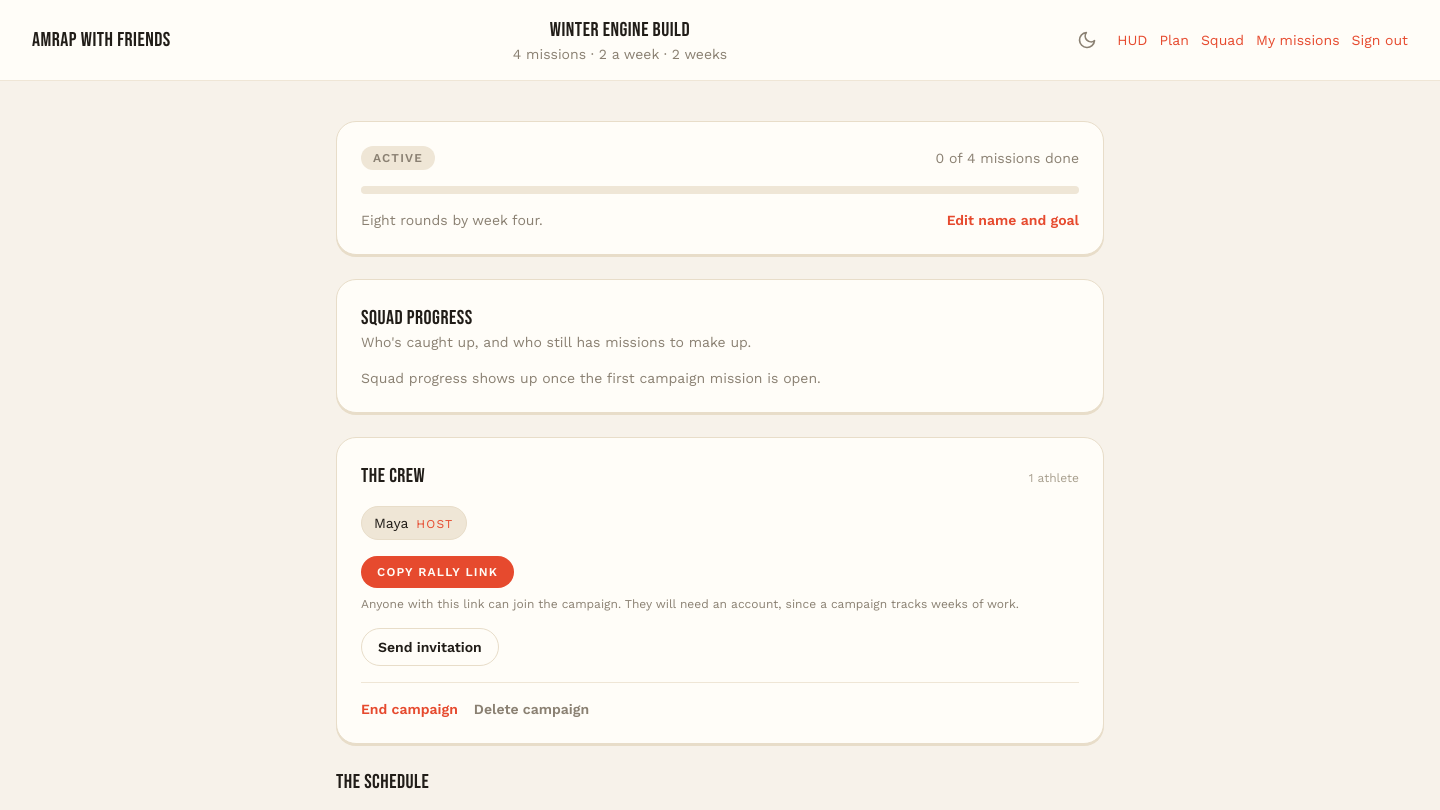
Test case: CampaignDetailPage › host controls › keeps the campaign readable when the server refuses
Click the button "Delete campaign" at (531, 709), box [474, 699, 589, 719]
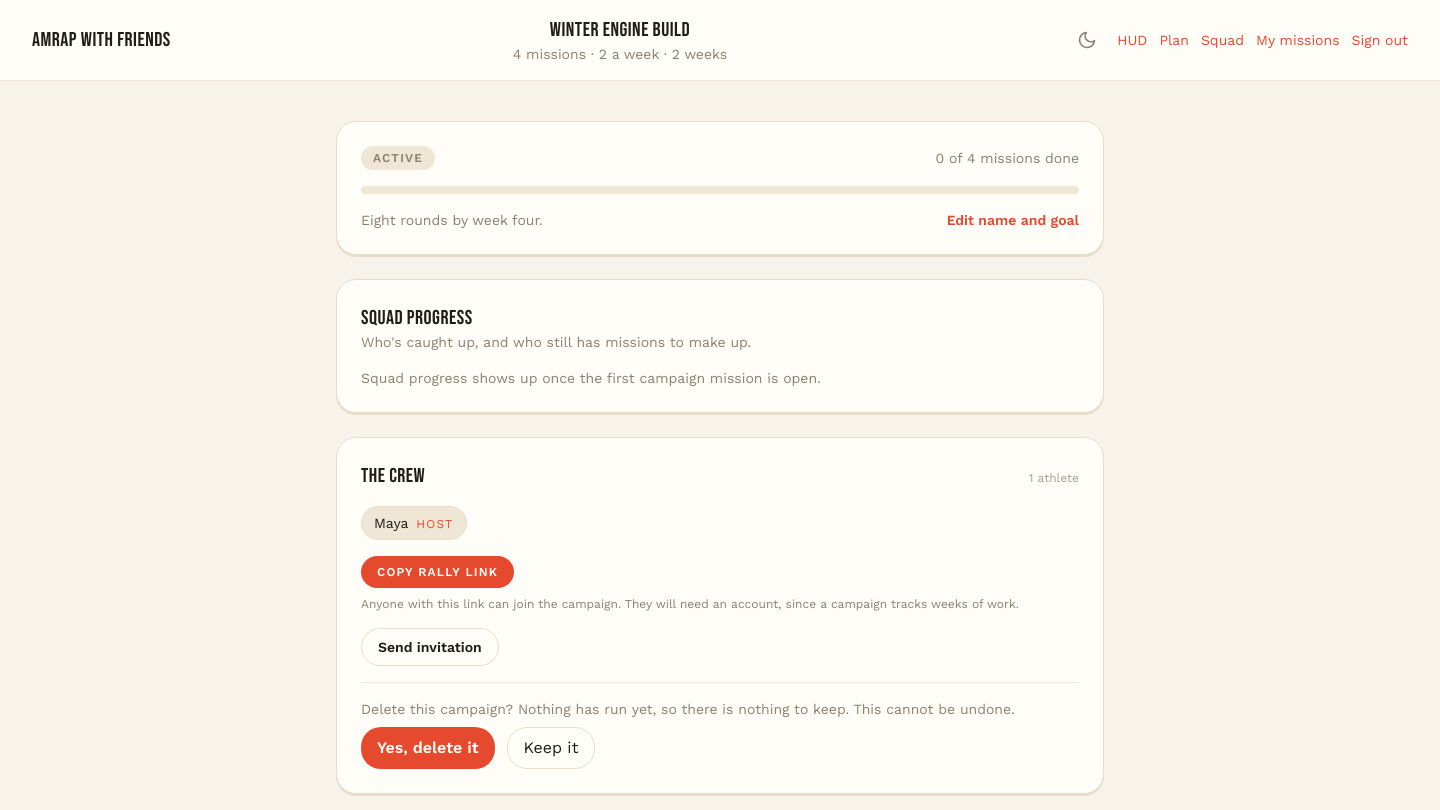
Click the button "Yes, delete it" at (428, 748), box [361, 727, 495, 769]
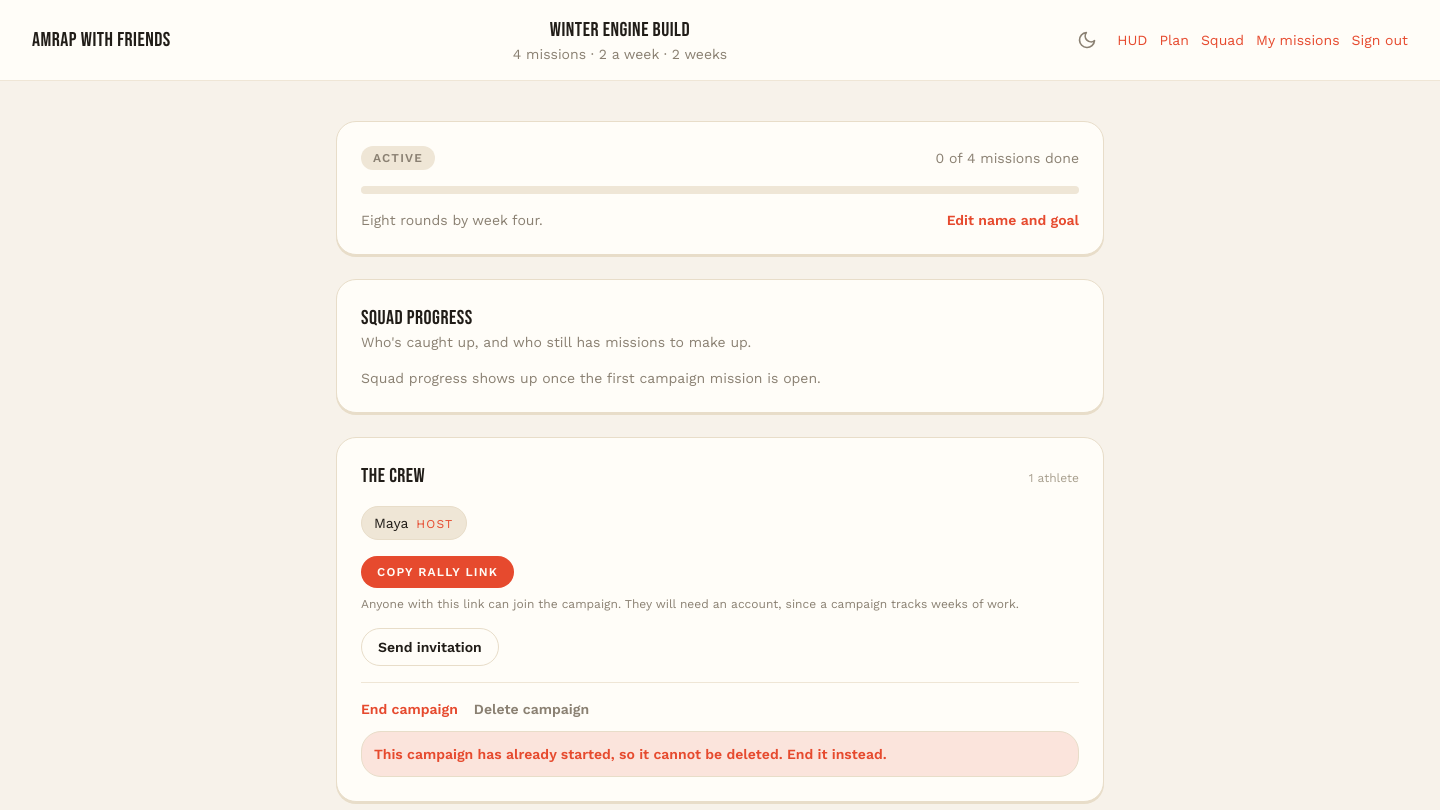
Expected: the text "Winter Engine Build" is shown, [550, 18, 690, 42]
Result: the text "This campaign has already started, so it cannot be deleted. End it instead." is shown at [361, 731, 1079, 777]
